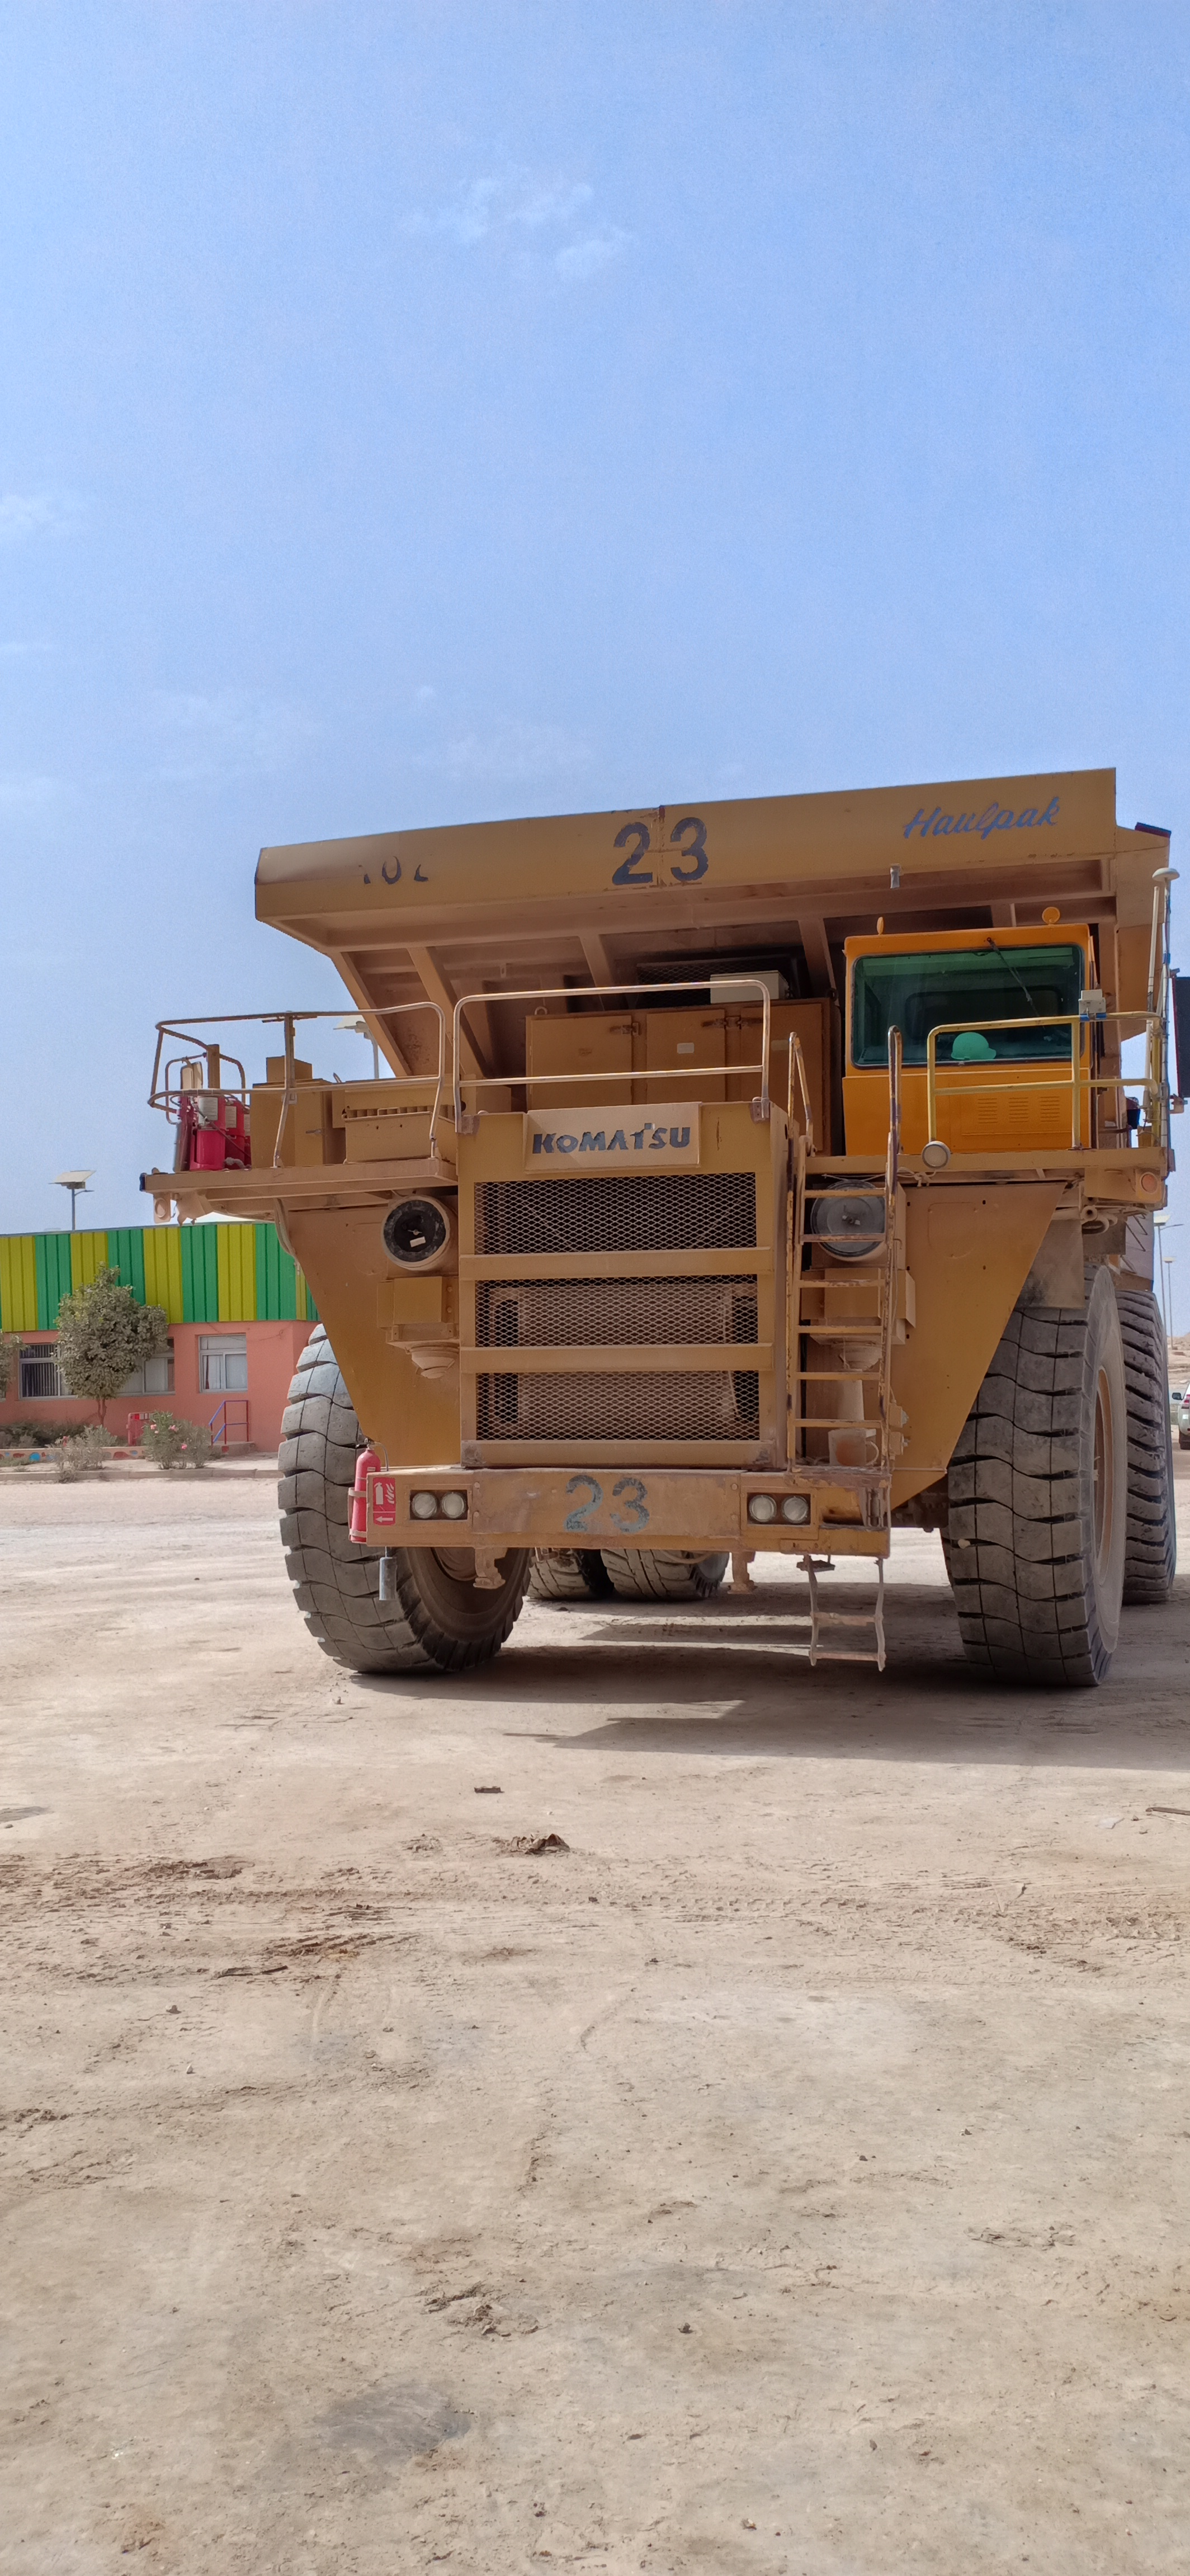camion: (150, 746, 1190, 1715)
